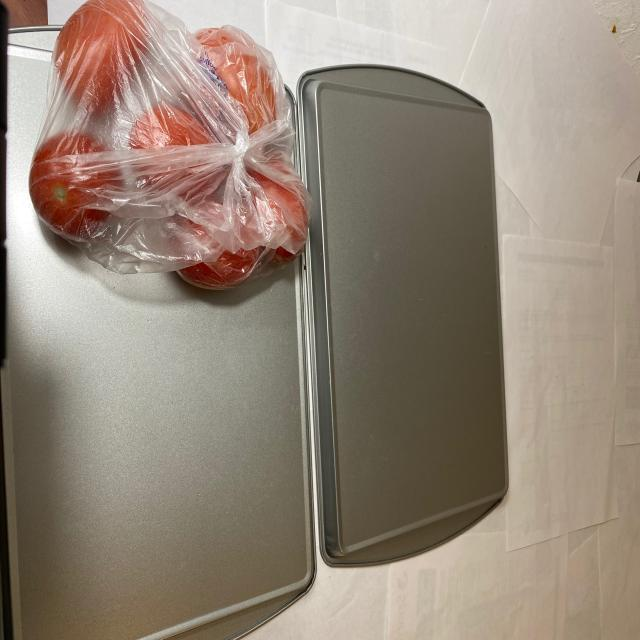tomato: (29, 0, 313, 272)
